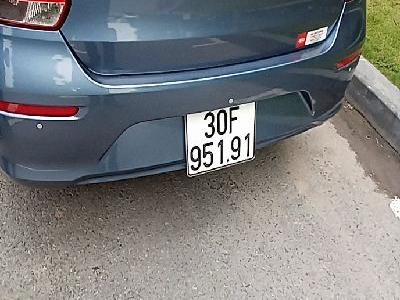car: (183, 100, 256, 177)
